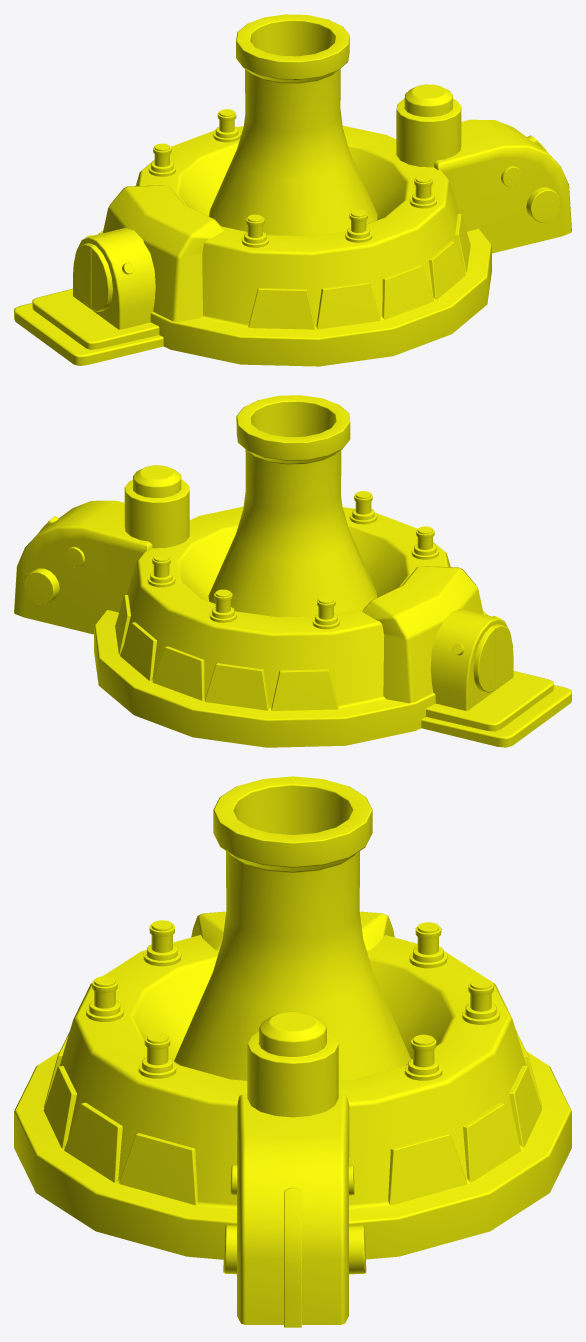
The model's file is reactor.glb.
The picture shows the model from 3 angles, top to bottom: view 1: azimuth 30°, elevation 25°; view 2: azimuth 150°, elevation 25°; view 3: azimuth 270°, elevation 25°; orthographic projection. The views are drawn at different scales.
Visible parts, largest first — view 1: Reactor; view 2: Reactor; view 3: Reactor.
Part boxes in pixels (x1,y1,x2,y2): Reactor: (14,14,571,366); Reactor: (14,395,571,747); Reactor: (14,776,571,1327).
Bounding box in the file's own units: 19.35 × 8.79 × 13.13.
Materials: 1 (1 with a texture image).
